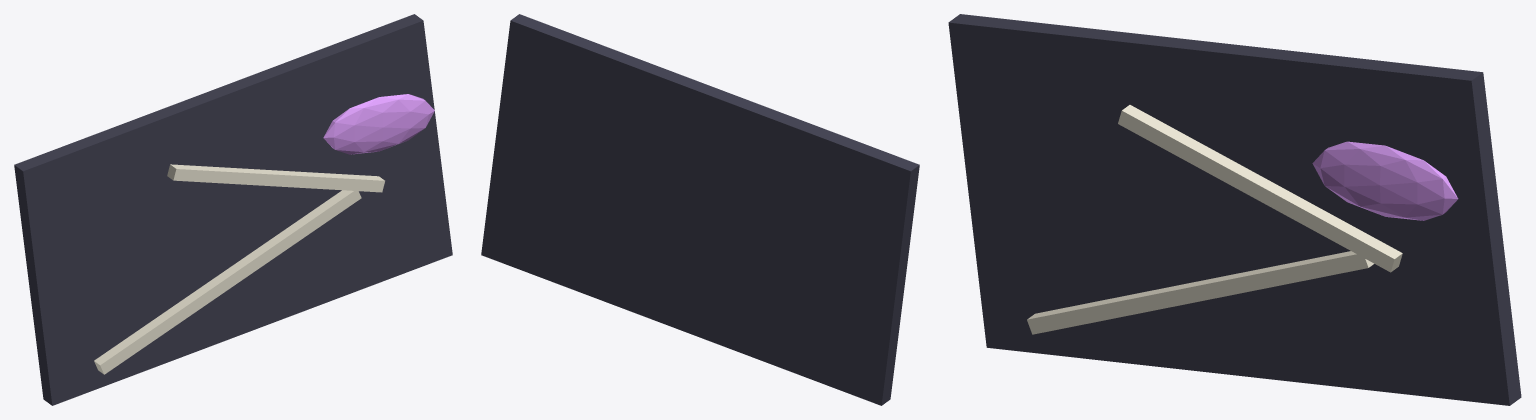
File: 06_weathering_wear_overlay_6.glb
3 views of the same model, side by side, from view 1: azimuth 30°, elevation 25°; view 2: azimuth 150°, elevation 25°; view 3: azimuth 330°, elevation 25° (orthographic). The views are drawn at different scales.
Parts seen in each view (by area): view 1: wear_plate, scratch_a, rust_or_moss_spot, scratch_b; view 2: wear_plate; view 3: wear_plate, rust_or_moss_spot, scratch_b, scratch_a.
Boxes of the visible parts, bbox=[...] form: wear_plate: bbox=[14, 14, 452, 405]; scratch_a: bbox=[94, 190, 361, 374]; rust_or_moss_spot: bbox=[323, 94, 434, 154]; scratch_b: bbox=[167, 164, 384, 192]; wear_plate: bbox=[481, 14, 919, 405]; wear_plate: bbox=[948, 14, 1521, 405]; rust_or_moss_spot: bbox=[1312, 141, 1458, 220]; scratch_b: bbox=[1118, 105, 1402, 272]; scratch_a: bbox=[1027, 251, 1373, 334].
Size of the model in its own units: 1.38 by 0.9075 by 0.134.
